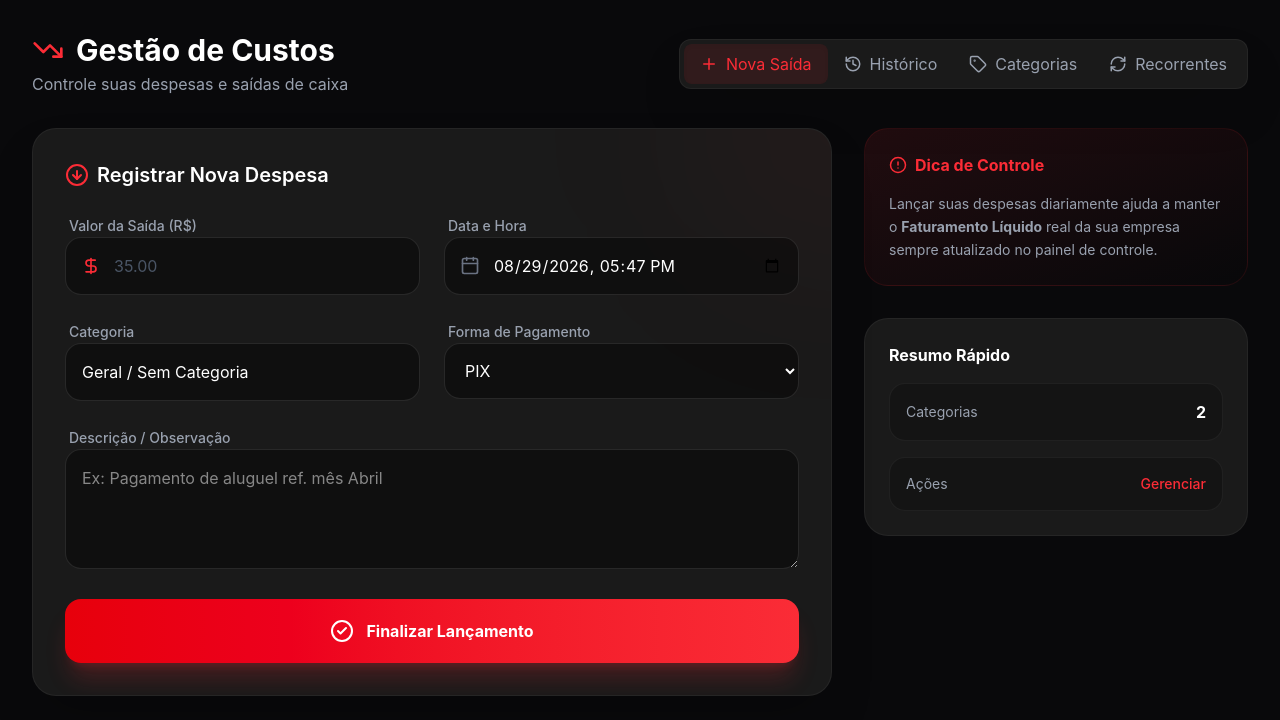
Test: Página Custos › deve permitir submeter nova despesa com sucesso
Type "150.00" into the number field with placeholder "35.00" at x=242, y=266, box [65, 237, 420, 295]
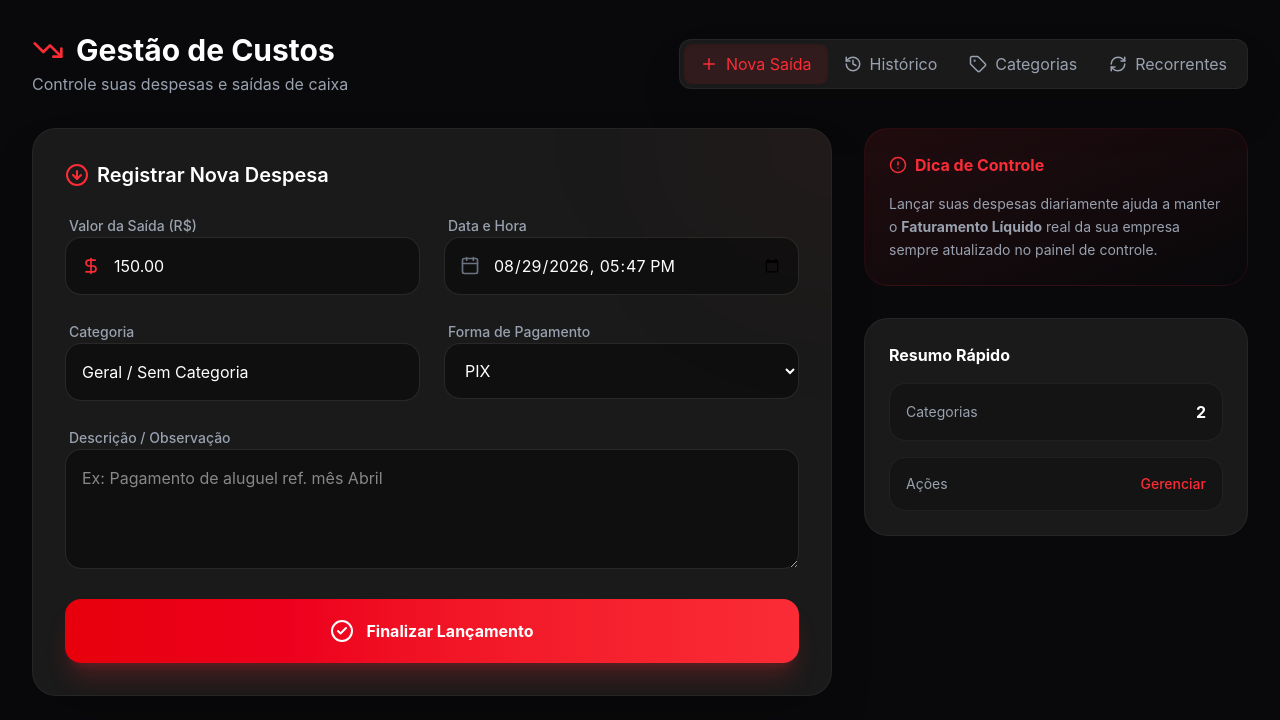
Type "Energia de Maio" into the text box with placeholder "Ex: Pagamento de aluguel ref. mês Abril" at x=432, y=509, box [65, 449, 799, 569]
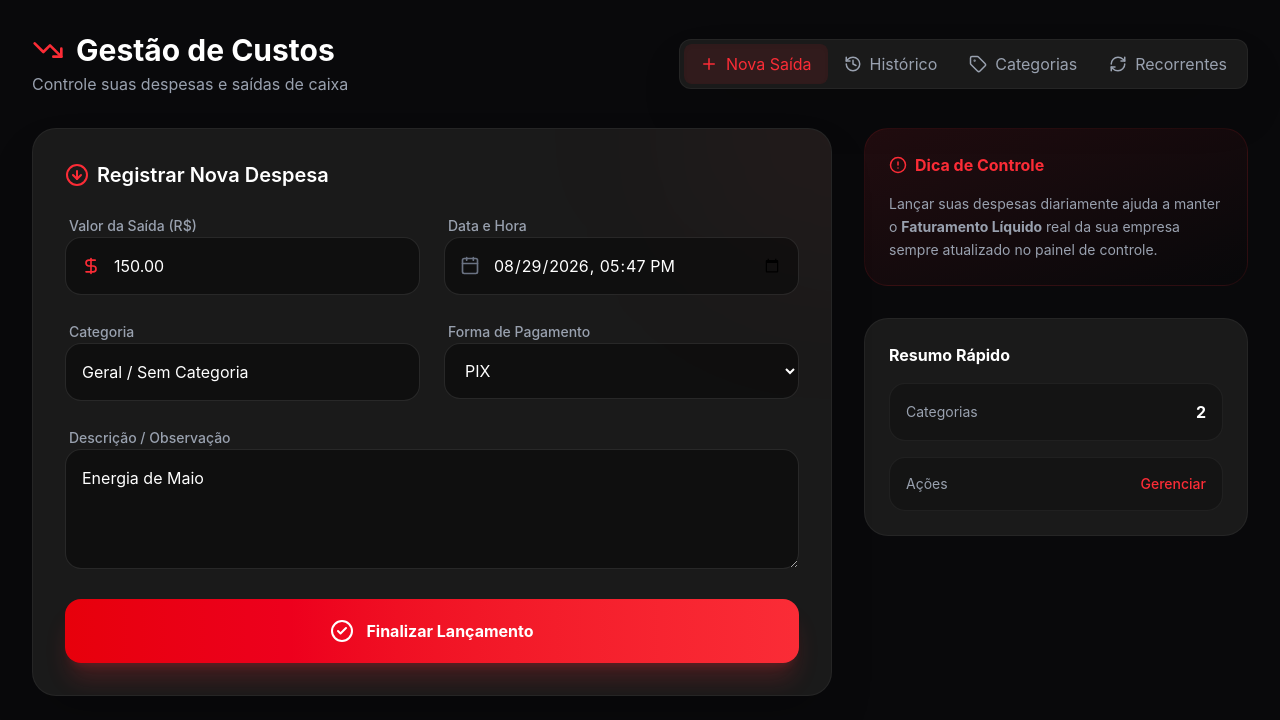
Seleciona Categoria "Energia"
Select "Energia" in the 1st dropdown at x=242, y=372, box [65, 343, 420, 401]
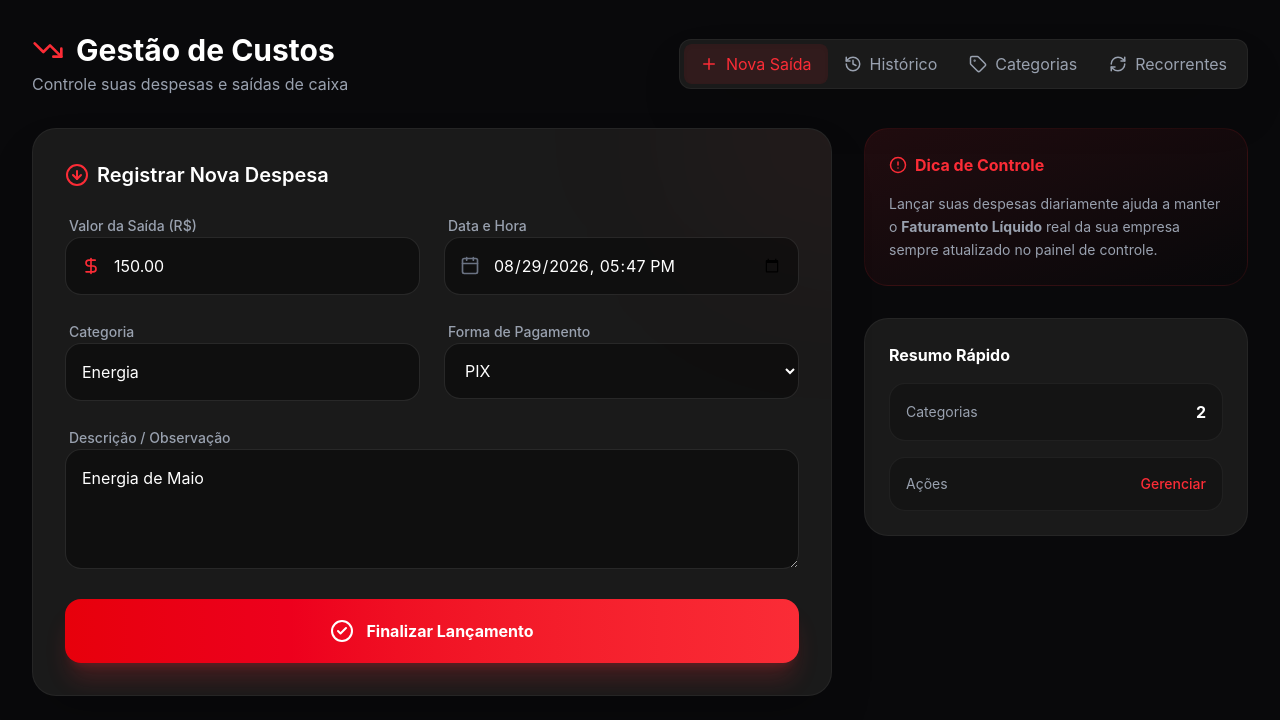
Click the button "Finalizar Lançamento" at x=432, y=631, box [65, 599, 799, 663]
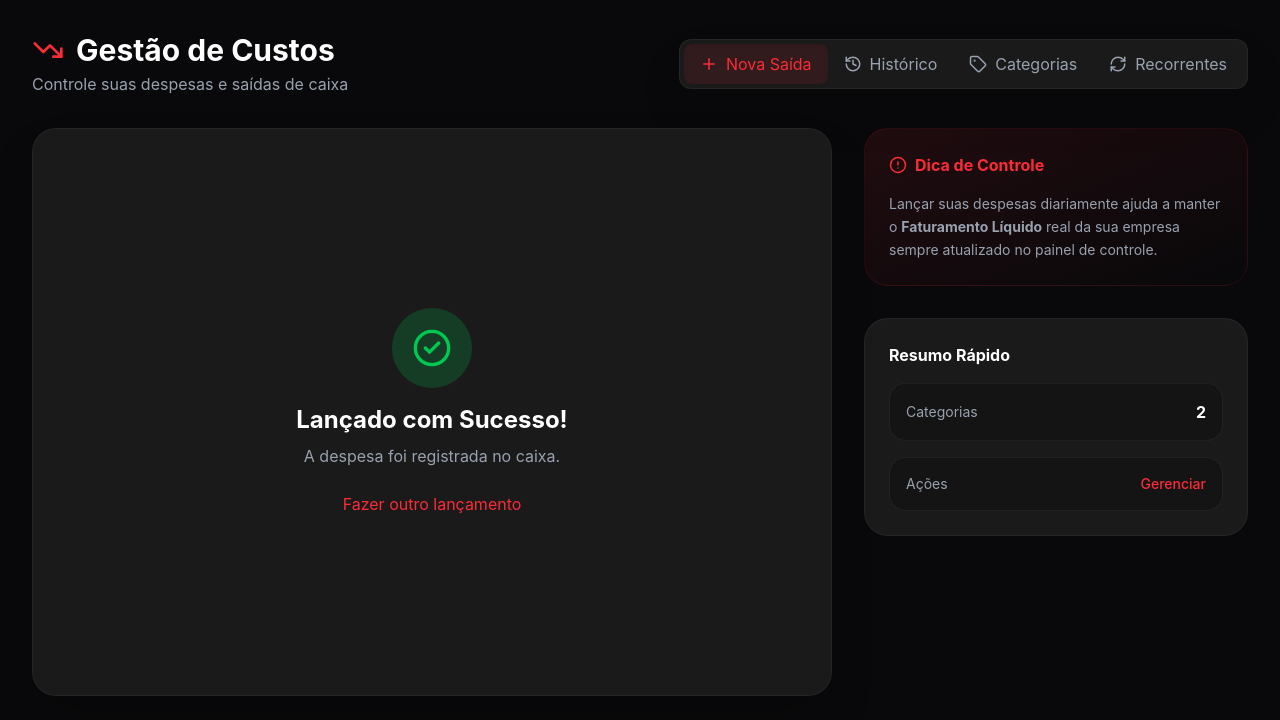
Expected: the heading "Lançado com Sucesso!" is shown, [296, 404, 568, 436]
